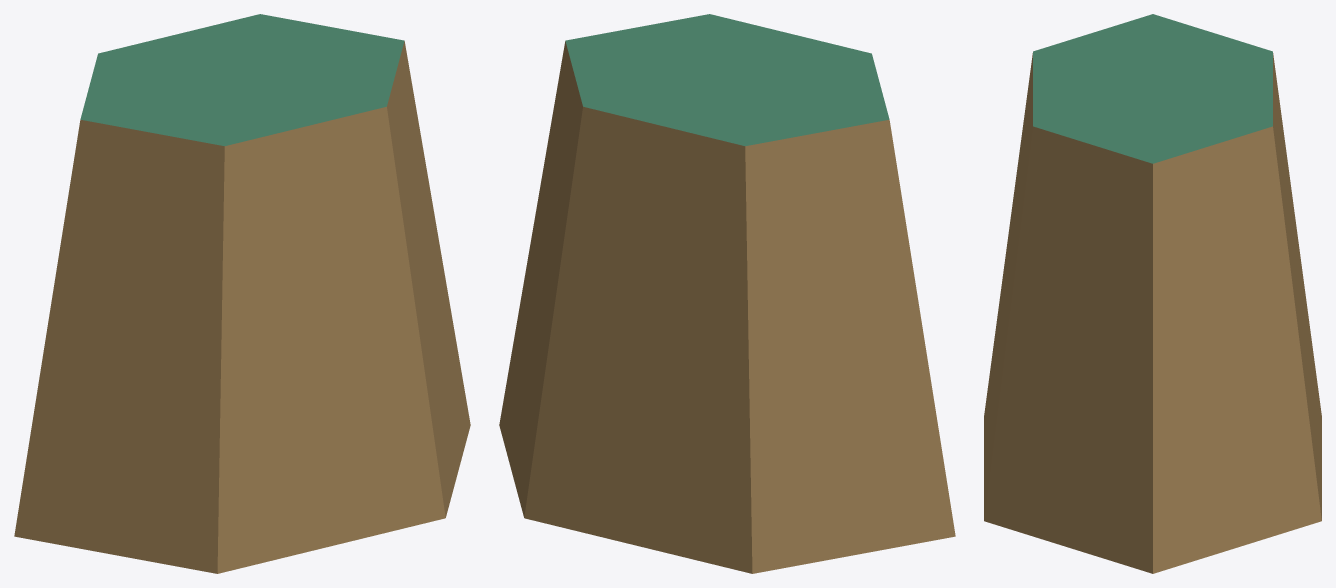
Rendered from Rock_Small_Mesa_Eroded_Moss_Grass_13.FBX.
3 views of the same model, side by side, from view 1: azimuth 30°, elevation 25°; view 2: azimuth 150°, elevation 25°; view 3: azimuth 270°, elevation 25° (orthographic). The views are drawn at different scales.
Visible parts, largest first — view 1: Rock_Small_Mesa_Eroded_Moss_Grass_13; view 2: Rock_Small_Mesa_Eroded_Moss_Grass_13; view 3: Rock_Small_Mesa_Eroded_Moss_Grass_13.
Boxes of the visible parts, x1=… form: Rock_Small_Mesa_Eroded_Moss_Grass_13: x1=14, y1=14, x2=470, y2=573; Rock_Small_Mesa_Eroded_Moss_Grass_13: x1=499, y1=14, x2=955, y2=573; Rock_Small_Mesa_Eroded_Moss_Grass_13: x1=984, y1=14, x2=1321, y2=573.
Bounding box in the file's own units: 2246 × 1884 × 1519.
